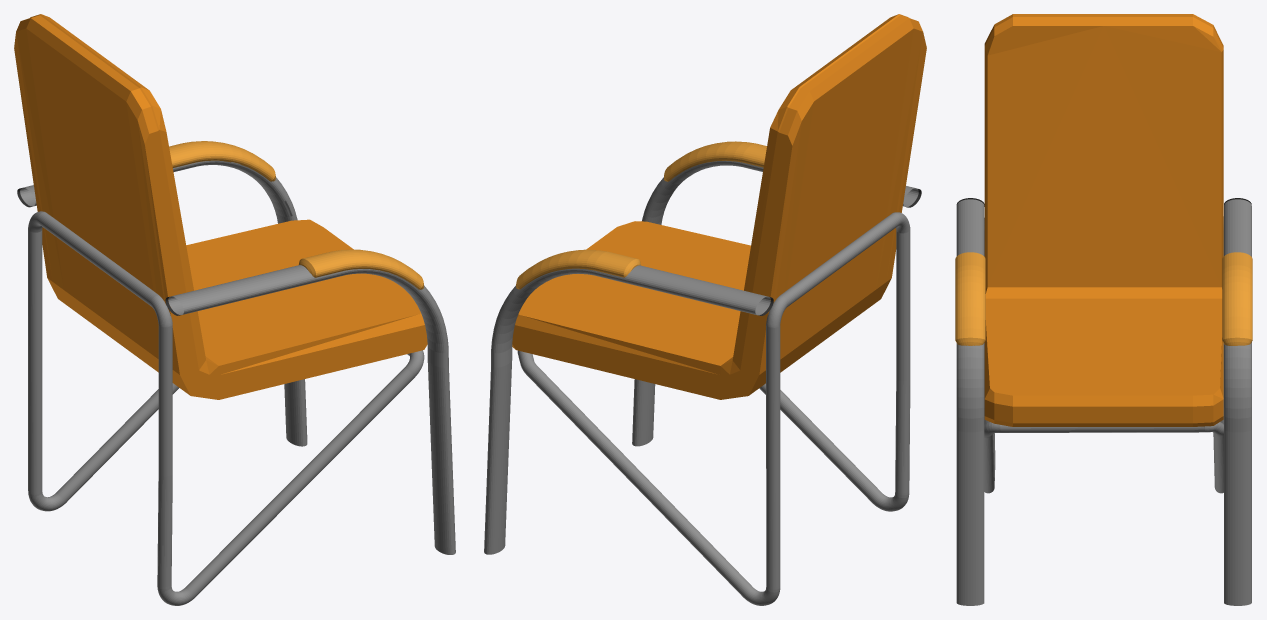
File: lectorium_chair_orange_visual.dae
3 views of the same model, side by side, from view 1: azimuth 30°, elevation 25°; view 2: azimuth 150°, elevation 25°; view 3: azimuth 270°, elevation 25° (orthographic). The views are drawn at different scales.
Visible parts, largest first — view 1: Cube_005; view 2: Cube_005; view 3: Cube_005.
Boxes of the visible parts, left/top/right/bottom form: Cube_005: left=14, top=14, right=455, bottom=605; Cube_005: left=484, top=14, right=926, bottom=605; Cube_005: left=955, top=14, right=1252, bottom=605.
Size of the model in its own units: 497 by 468 by 804.
